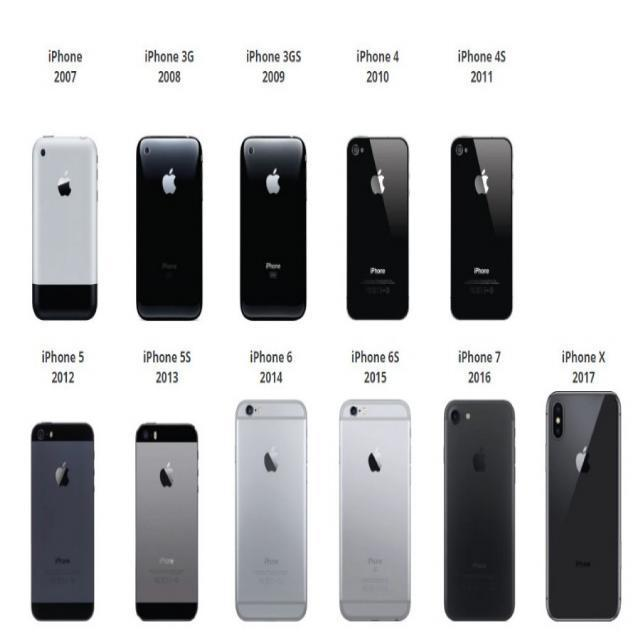phone: (546, 388, 623, 620), (233, 398, 309, 616), (444, 396, 516, 623), (341, 394, 412, 618), (31, 422, 95, 622), (135, 422, 198, 620), (345, 134, 410, 320), (450, 136, 512, 322)
